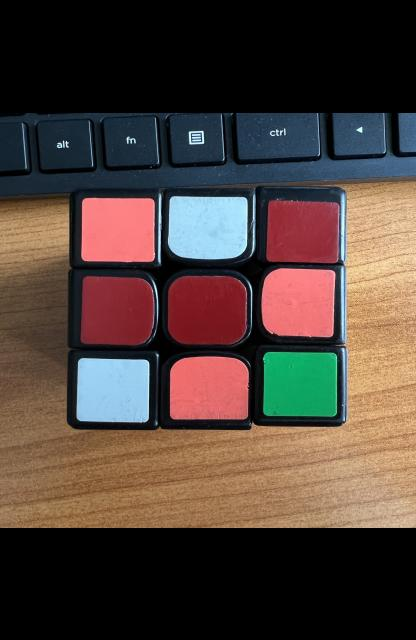Green: (263, 351, 337, 416)
Orange: (262, 267, 336, 336), (170, 356, 249, 419), (82, 196, 156, 262)
Red: (167, 274, 247, 344), (80, 276, 154, 345), (266, 199, 339, 263)
White: (168, 195, 248, 258), (77, 357, 149, 422)
